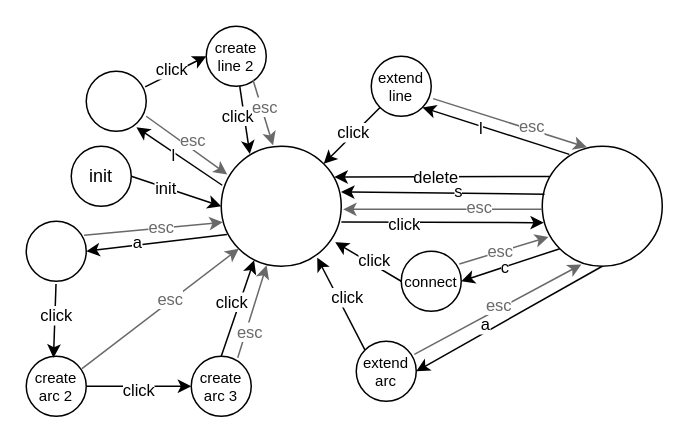
Image size: 689x443. Some labels were removed from this diagram. The shapes that lost their labels are listed below. From the top down, each one's centre as x and y in pixels, then its label:
point 115,100: create line 1
point 280,205: default
point 601,205: selected
point 55,250: create arc 1
